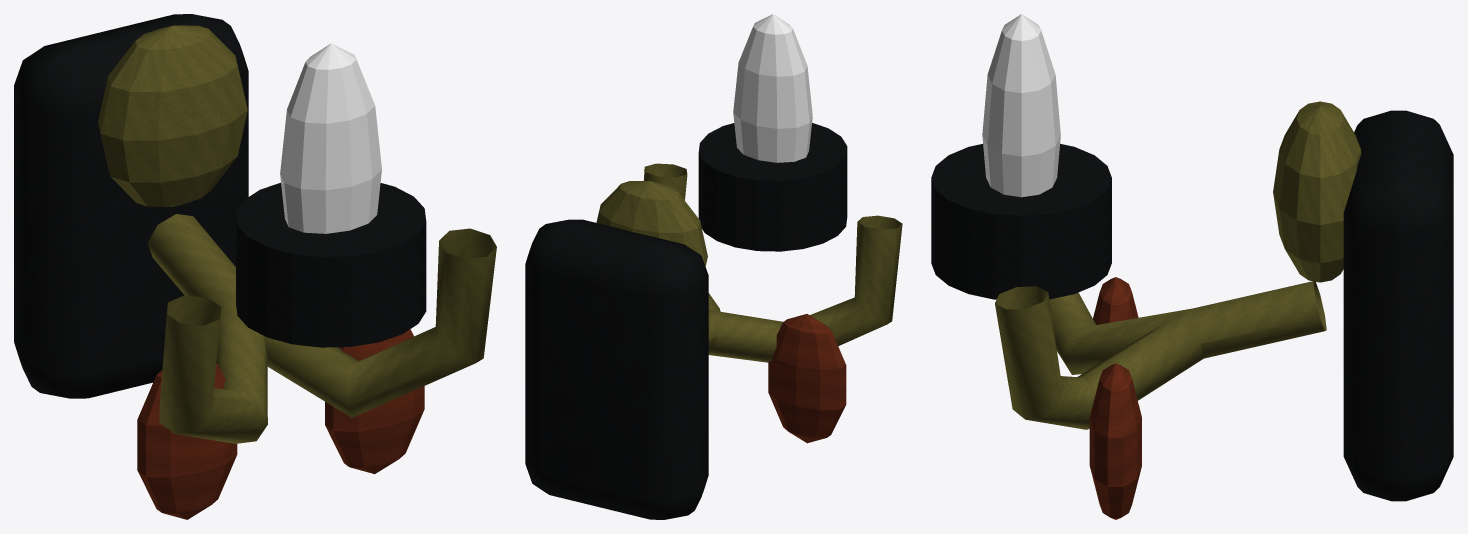
File: 15_Prop_WallSconce.fbx
3 views of the same model, side by side, from view 1: azimuth 30°, elevation 25°; view 2: azimuth 150°, elevation 25°; view 3: azimuth 270°, elevation 25° (orthographic). The views are drawn at different scales.
Visible parts, largest first — view 1: Sconce_Backplate.001, Sconce_CandleCup.001, Sconce_Crest.001, Sconce_Arm.002, Sconce_Arm.003, Sconce_Flame.001, Sconce_Leaf.002, Sconce_Leaf.003; view 2: Sconce_Backplate.001, Sconce_CandleCup.001, Sconce_Flame.001, Sconce_Arm.003, Sconce_Leaf.002, Sconce_Crest.001, Sconce_Arm.002; view 3: Sconce_Backplate.001, Sconce_CandleCup.001, Sconce_Arm.002, Sconce_Crest.001, Sconce_Flame.001, Sconce_Arm.003, Sconce_Leaf.003, Sconce_Leaf.002.
Boxes of the visible parts, <box> form: Sconce_Backplate.001: <box>14,14,248,398</box>; Sconce_CandleCup.001: <box>236,182,426,347</box>; Sconce_Crest.001: <box>98,25,247,206</box>; Sconce_Arm.002: <box>148,214,496,417</box>; Sconce_Arm.003: <box>148,214,267,443</box>; Sconce_Flame.001: <box>280,43,381,233</box>; Sconce_Leaf.002: <box>137,364,237,519</box>; Sconce_Leaf.003: <box>325,329,424,474</box>; Sconce_Backplate.001: <box>525,219,708,519</box>; Sconce_CandleCup.001: <box>698,123,847,251</box>; Sconce_Flame.001: <box>733,14,812,162</box>; Sconce_Arm.003: <box>708,215,902,362</box>; Sconce_Leaf.002: <box>768,314,846,443</box>; Sconce_Crest.001: <box>596,181,707,266</box>; Sconce_Arm.002: <box>643,163,720,351</box>; Sconce_Backplate.001: <box>1343,110,1453,501</box>; Sconce_CandleCup.001: <box>931,143,1111,299</box>; Sconce_Arm.002: <box>995,281,1325,429</box>; Sconce_Crest.001: <box>1273,101,1361,282</box>; Sconce_Flame.001: <box>982,14,1060,197</box>; Sconce_Arm.003: <box>1049,281,1326,374</box>; Sconce_Leaf.003: <box>1089,363,1141,519</box>; Sconce_Leaf.002: <box>1093,277,1138,324</box>.
Bounding box in the file's own units: 0.4488 × 0.65 × 0.665.
4 materials, 3 textured.
